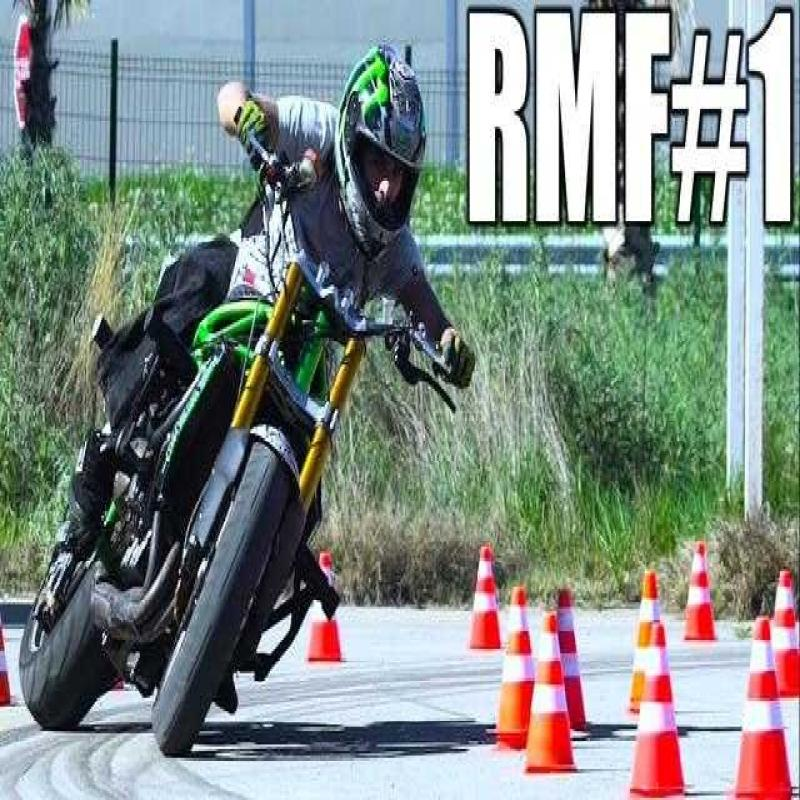bike: (25, 167, 392, 737)
